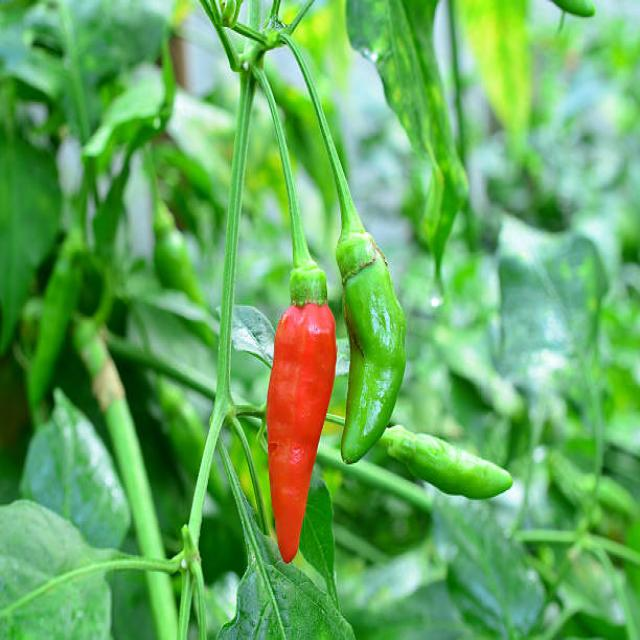Ripe: (265, 263, 340, 566)
Unripe: (339, 262, 407, 466), (381, 428, 517, 503)
